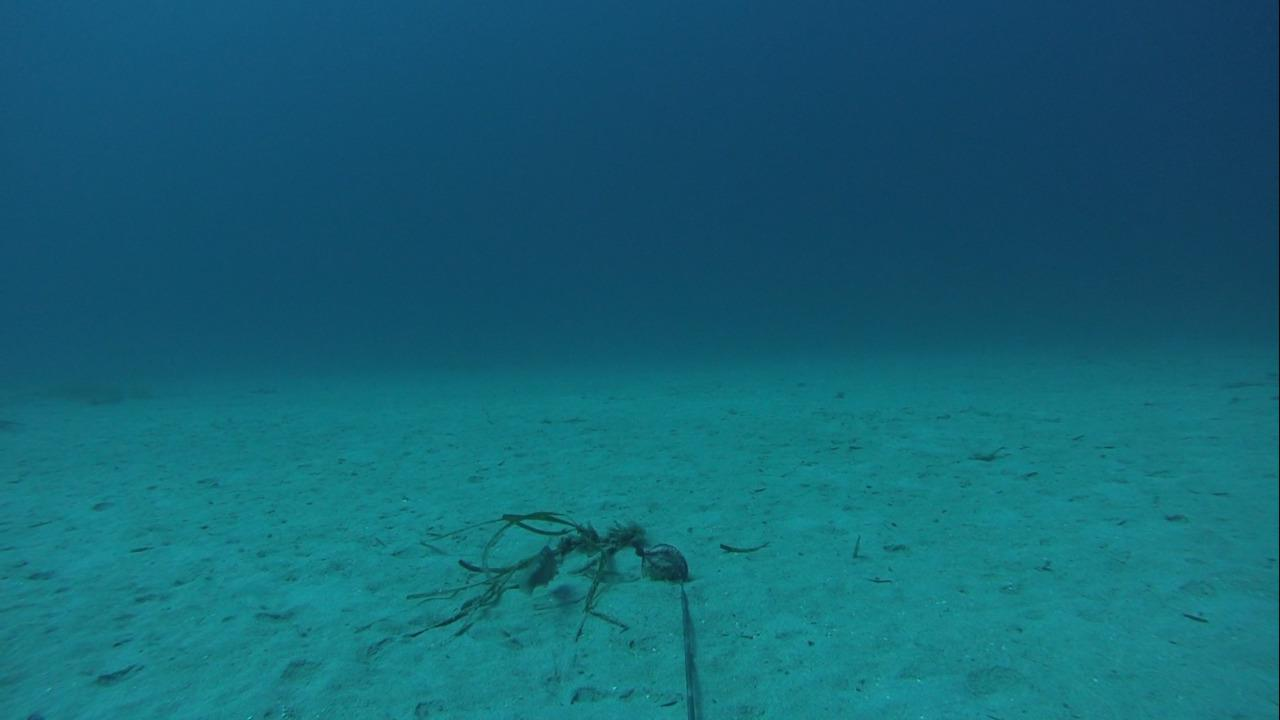raor: (516, 537, 564, 595)
